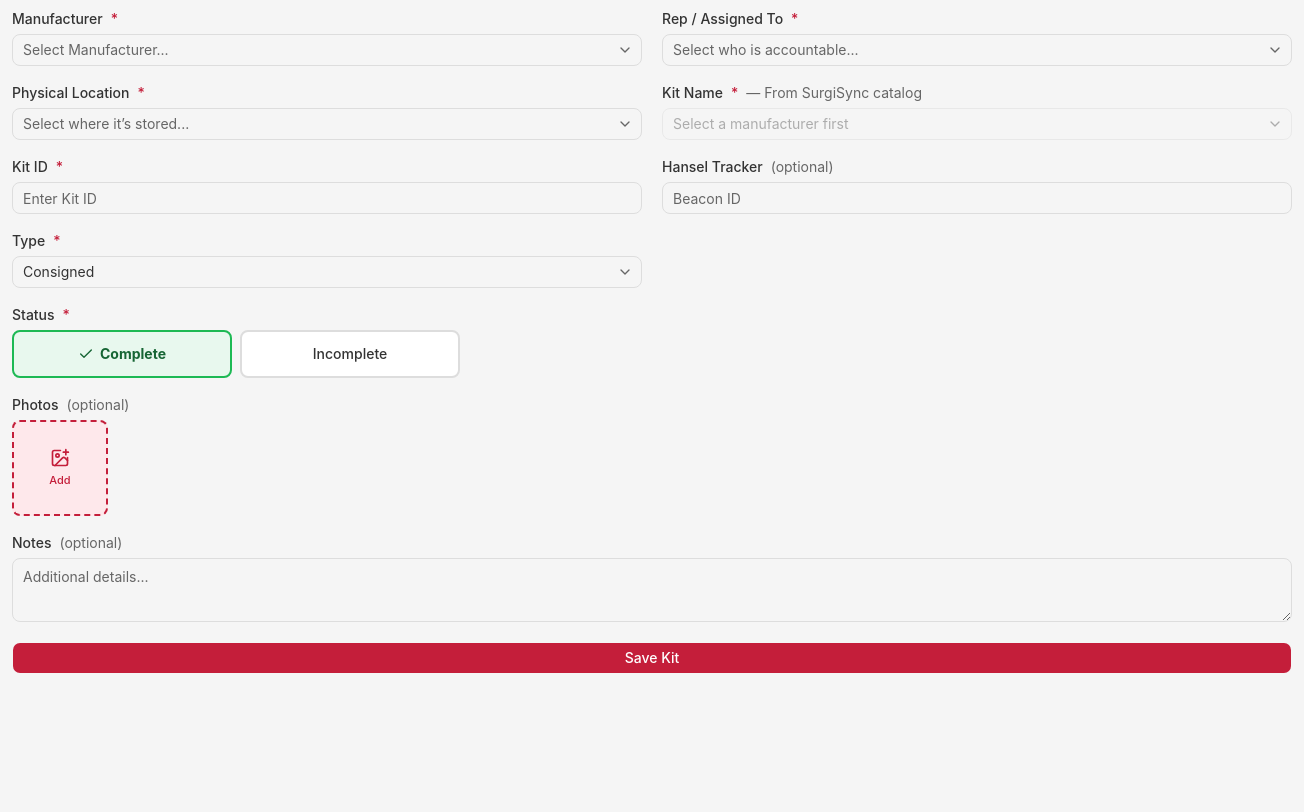
Test: ReceiveKitForm › offers the default locations alongside the org facets
The image size is (1304, 812).
What coordinates should you click on to do the following:
click the dropdown named "Physical Location"
I would click on:
 (106, 124)
Its box is [12,108,642,140].
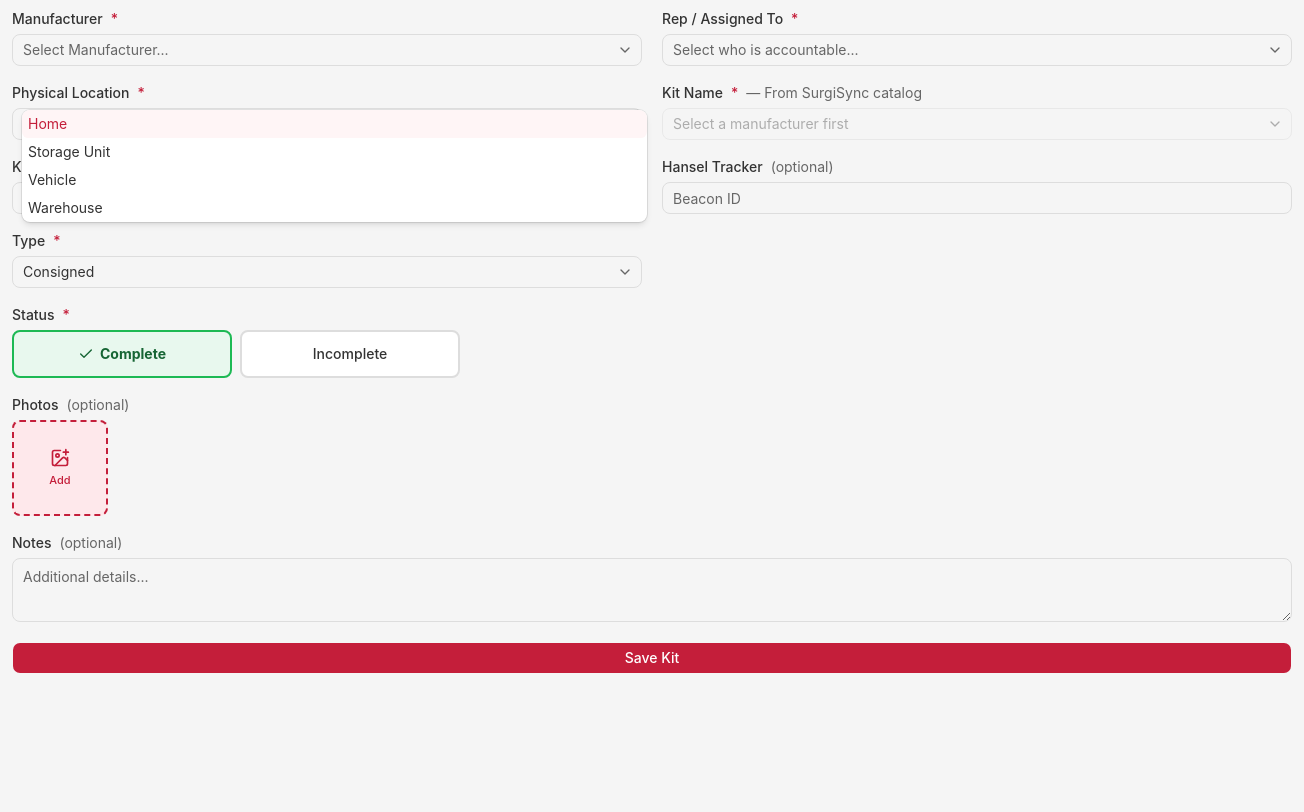
Now the option "Home" is shown, box [22,110,647,138]
Now the option "Storage Unit" is shown, box [28,143,110,160]
Now the option "Vehicle" is shown, box [28,171,76,188]
